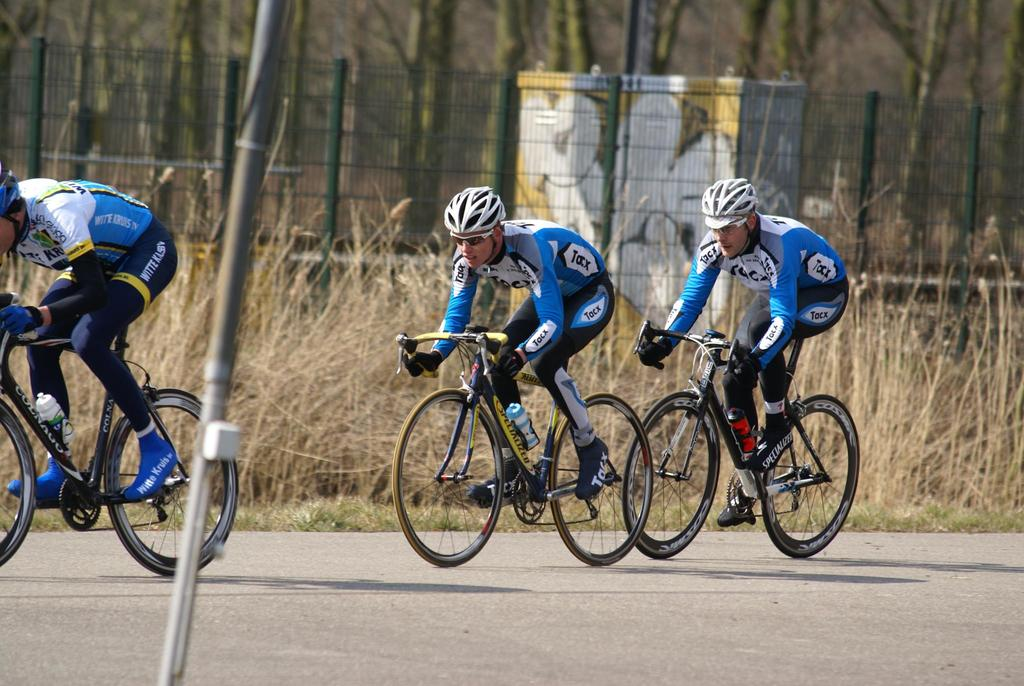Bike_away: (3, 300, 234, 575)
Bike_toward: (388, 325, 657, 567), (634, 316, 866, 565)
